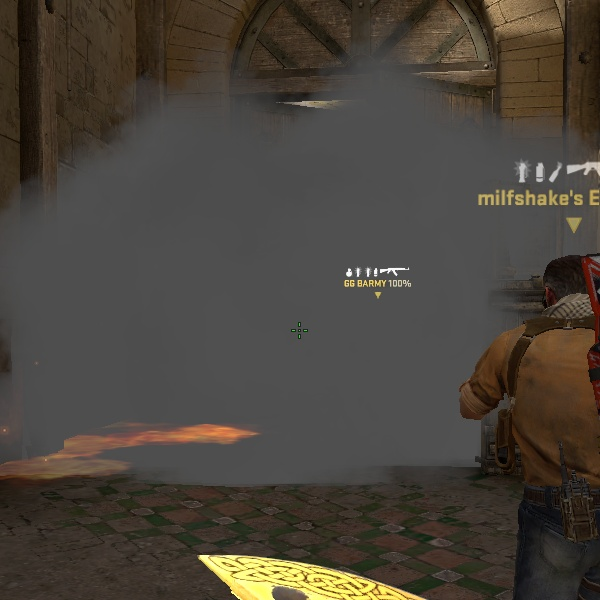t_body: (443, 234, 598, 600)
t_head: (517, 245, 597, 335)
